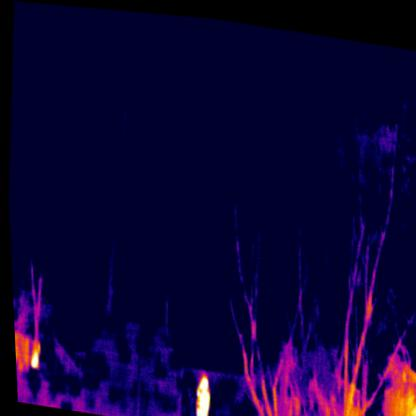human: (189, 371, 208, 415)
